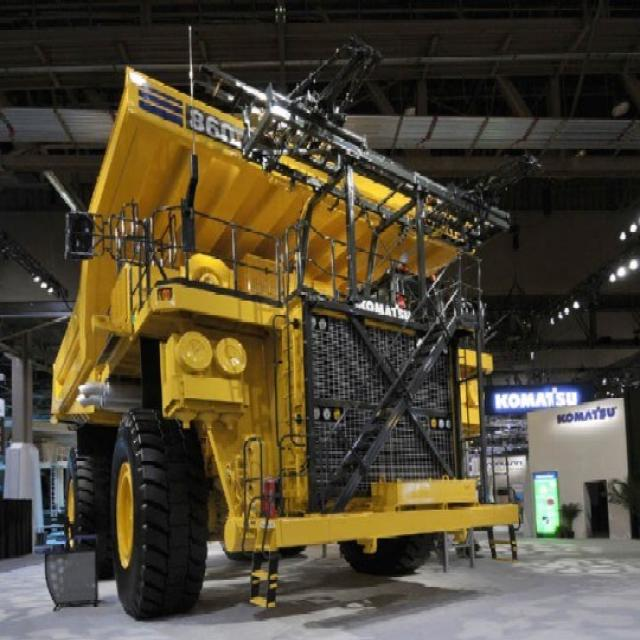dump_truck: (44, 63, 546, 617)
